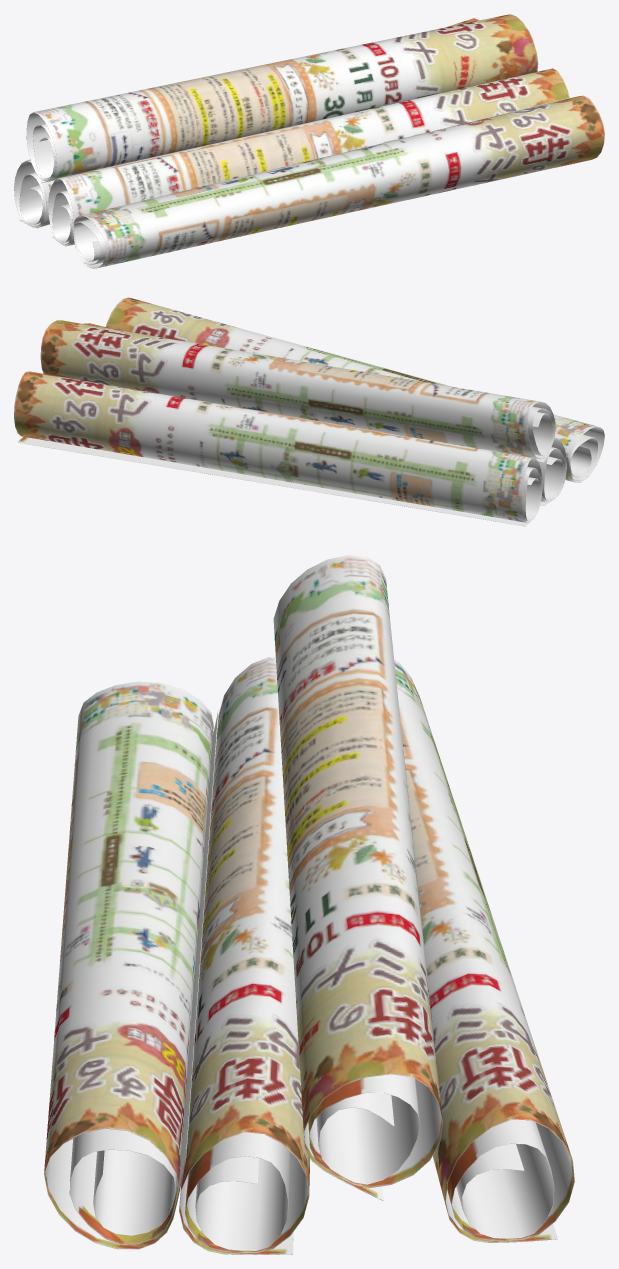
File: wan-zhi-posuta.fbx
3 views of the same model, one above another, from view 1: azimuth 30°, elevation 25°; view 2: azimuth 150°, elevation 25°; view 3: azimuth 270°, elevation 25° (orthographic). The views are drawn at different scales.
Visible parts, largest first — view 1: ポスター 3, ポスター, ポスター 4, ポスター 2; view 2: ポスター 2, ポスター 3, ポスター, ポスター 4; view 3: ポスター 3, ポスター, ポスター 4, ポスター 2.
Part boxes in pixels (bbox=[...]): ポスター 3: bbox=[26, 14, 538, 182]; ポスター: bbox=[72, 95, 604, 268]; ポスター 4: bbox=[48, 68, 569, 246]; ポスター 2: bbox=[14, 18, 479, 228]; ポスター 2: bbox=[14, 371, 542, 526]; ポスター 3: bbox=[40, 320, 555, 462]; ポスター: bbox=[106, 297, 604, 482]; ポスター 4: bbox=[83, 323, 566, 505]; ポスター 3: bbox=[273, 555, 442, 1200]; ポスター: bbox=[44, 681, 218, 1249]; ポスター 4: bbox=[179, 657, 310, 1254]; ポスター 2: bbox=[394, 659, 574, 1242].
Bounding box in the file's own units: 0.498 × 0.1154 × 0.2369.
Materials: 2 (2 with a texture image).
